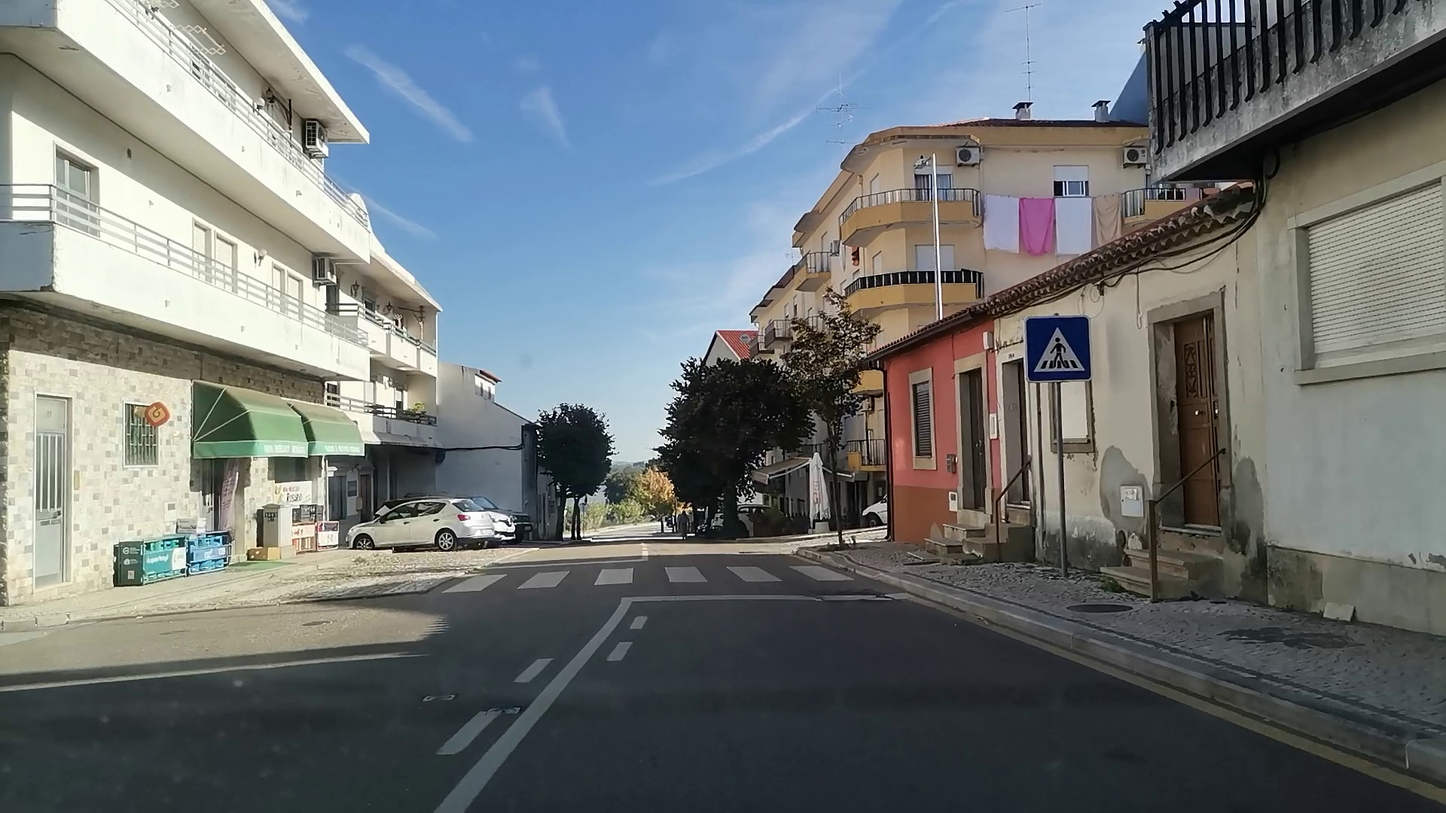Stairs: (447, 561, 854, 595)
